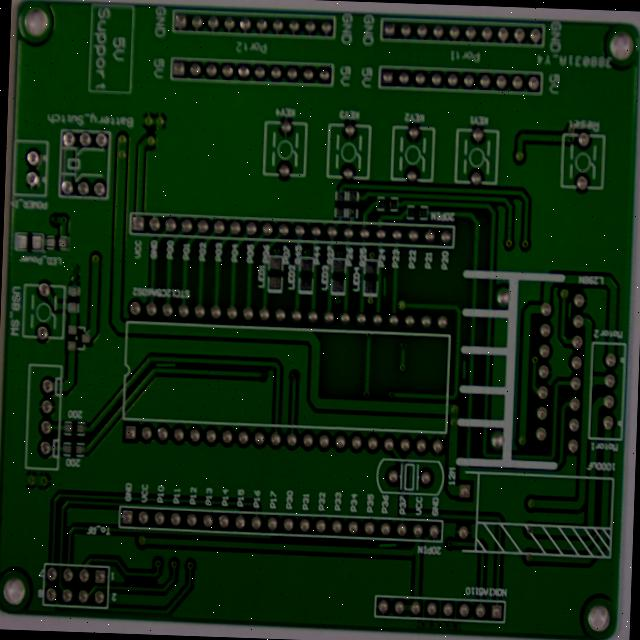spurious_copper: (390, 583, 420, 603), (159, 385, 186, 407), (590, 319, 605, 350), (480, 386, 495, 416), (396, 298, 411, 325)
